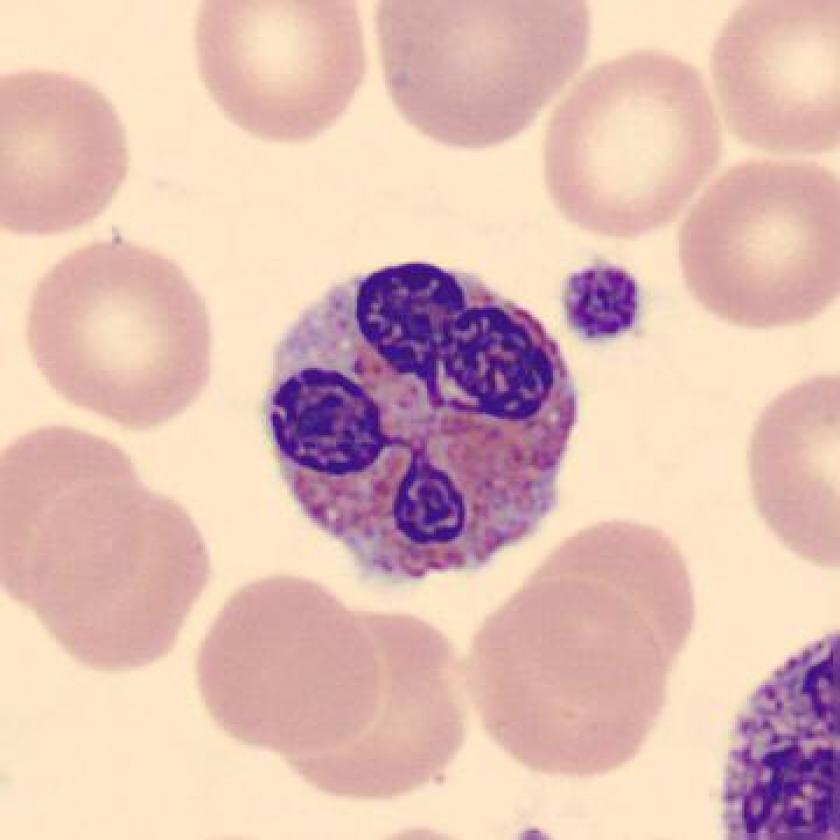eosinophil: (246, 249, 594, 594)
